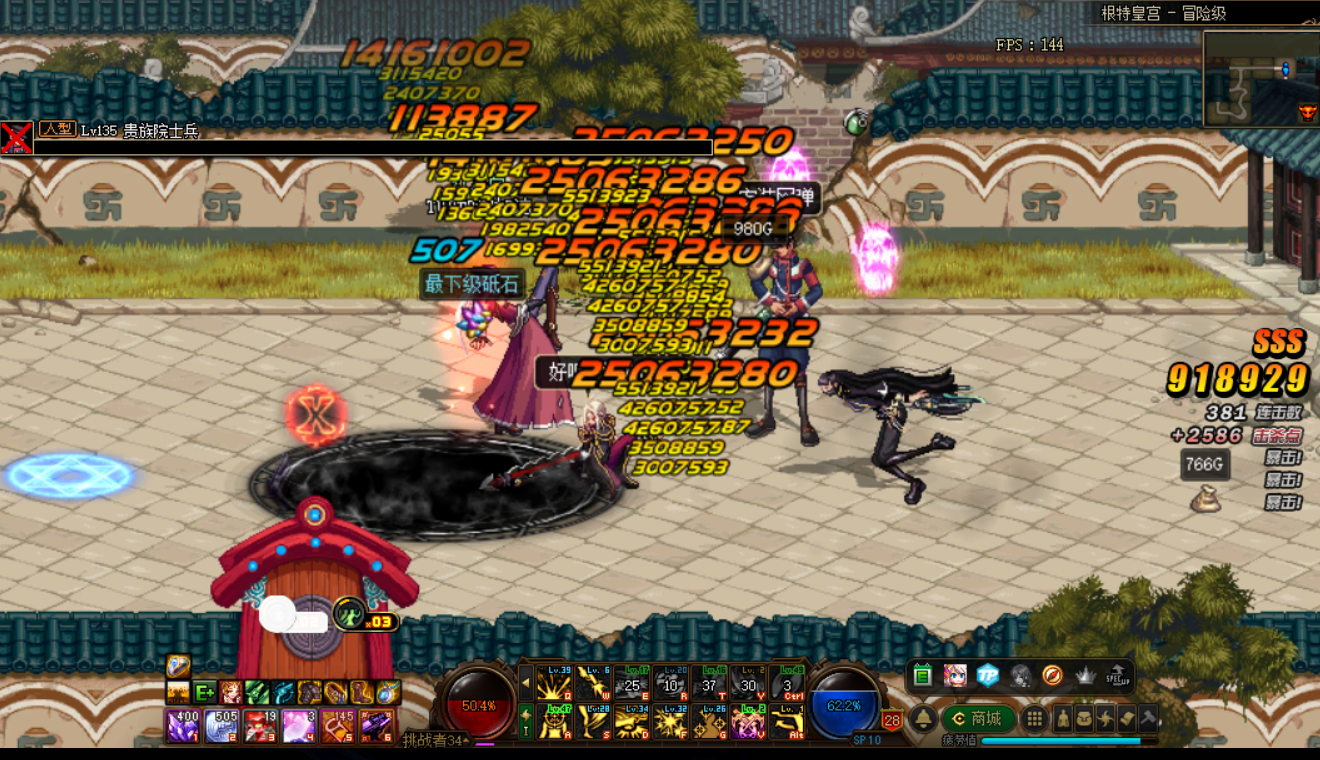monster: (815, 361, 985, 513), (734, 228, 825, 448), (507, 405, 651, 494)
warrior: (453, 238, 582, 441)
